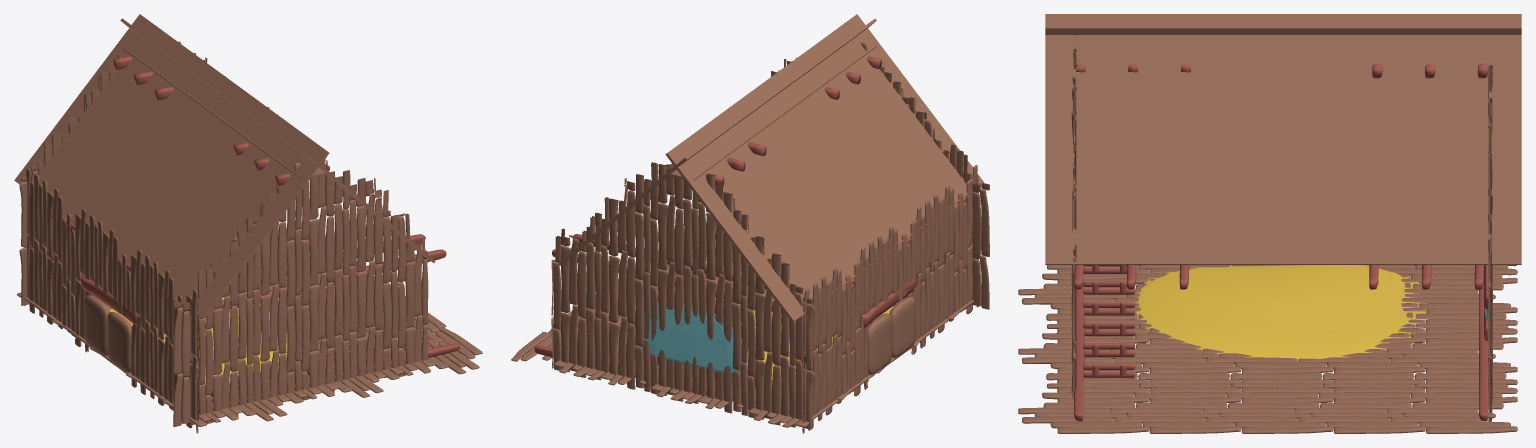
Rendered from intérieur grange.fbx.
3 renders of one model, left to right at view 1: azimuth 30°, elevation 25°; view 2: azimuth 150°, elevation 25°; view 3: azimuth 270°, elevation 25°, orthographic. The views are drawn at different scales.
Parts seen in each view (by area): view 1: toit 1, Mur gauche, planche derriére, plancher, planches_porte_, Mur droit, poutres, toit 2, Encadrement porte.001, Paille, Cube.031, toit 3; view 2: toit 1, Mur droit, planche derriére, plancher, fenêtre, Mur gauche, planches_porte_, toit 2, poutres, Encadrement porte.001, toit 3, Cube.031; view 3: toit 2, plancher, Paille, toit 1, poutres, box, Mur droit, Mur gauche.
Boxes of the visible parts, x1=… form: toit 1: x1=14, y1=14, x2=329, y2=318; Mur gauche: x1=173, y1=157, x2=428, y2=426; planche derriére: x1=23, y1=167, x2=198, y2=433; plancher: x1=17, y1=223, x2=482, y2=426; planches_porte_: x1=84, y1=295, x2=131, y2=372; Mur droit: x1=19, y1=41, x2=278, y2=305; poutres: x1=28, y1=142, x2=459, y2=412; toit 2: x1=120, y1=18, x2=435, y2=262; Encadrement porte.001: x1=81, y1=276, x2=142, y2=328; Paille: x1=108, y1=295, x2=287, y2=384; Cube.031: x1=113, y1=56, x2=173, y2=100; toit 3: x1=121, y1=46, x2=327, y2=178; toit 1: x1=665, y1=14, x2=983, y2=322; Mur droit: x1=551, y1=162, x2=814, y2=429; planche derriére: x1=802, y1=165, x2=978, y2=433; plancher: x1=511, y1=222, x2=973, y2=427; fenêtre: x1=639, y1=303, x2=747, y2=374; Mur gauche: x1=771, y1=42, x2=989, y2=309; planches_porte_: x1=867, y1=296, x2=915, y2=374; toit 2: x1=558, y1=18, x2=876, y2=265; poutres: x1=534, y1=56, x2=970, y2=414; Encadrement porte.001: x1=859, y1=277, x2=916, y2=327; toit 3: x1=668, y1=46, x2=876, y2=180; Cube.031: x1=666, y1=142, x2=766, y2=185; toit 2: x1=1045, y1=14, x2=1521, y2=264; plancher: x1=1018, y1=265, x2=1517, y2=433; Paille: x1=1134, y1=265, x2=1428, y2=362; toit 1: x1=1045, y1=25, x2=1521, y2=34; poutres: x1=1074, y1=64, x2=1488, y2=421; box: x1=1083, y1=265, x2=1135, y2=377; Mur droit: x1=1488, y1=65, x2=1492, y2=421; Mur gauche: x1=1071, y1=35, x2=1076, y2=398.
Bounding box in the file's own units: 1339 × 1080 × 1520.
